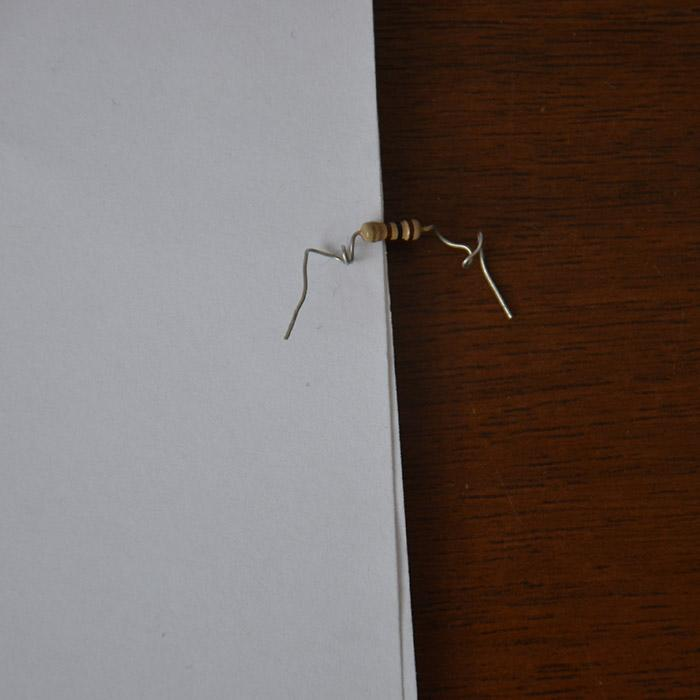resistor: (359, 218, 425, 243)
